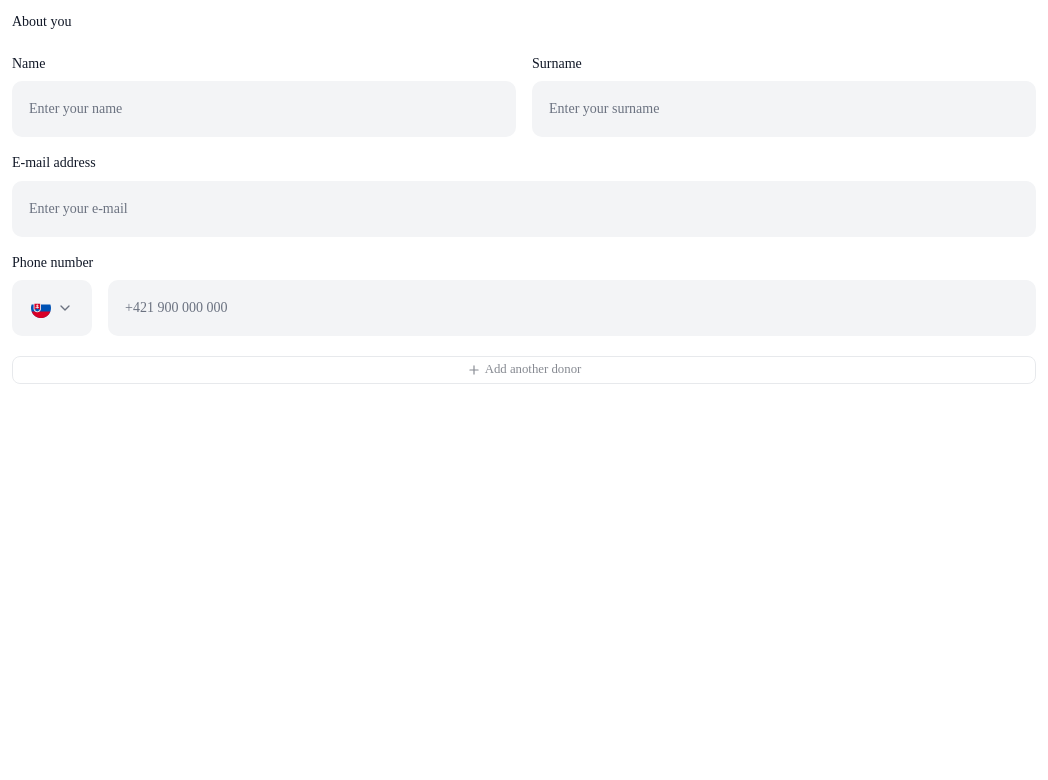
it: PersonalDetailsStep › collapses a correctly filled donor into a summary with an Edit button when another is added
Type "Novak" into the field labelled "Surname". click: (784, 109)
box: [532,81,1036,137]
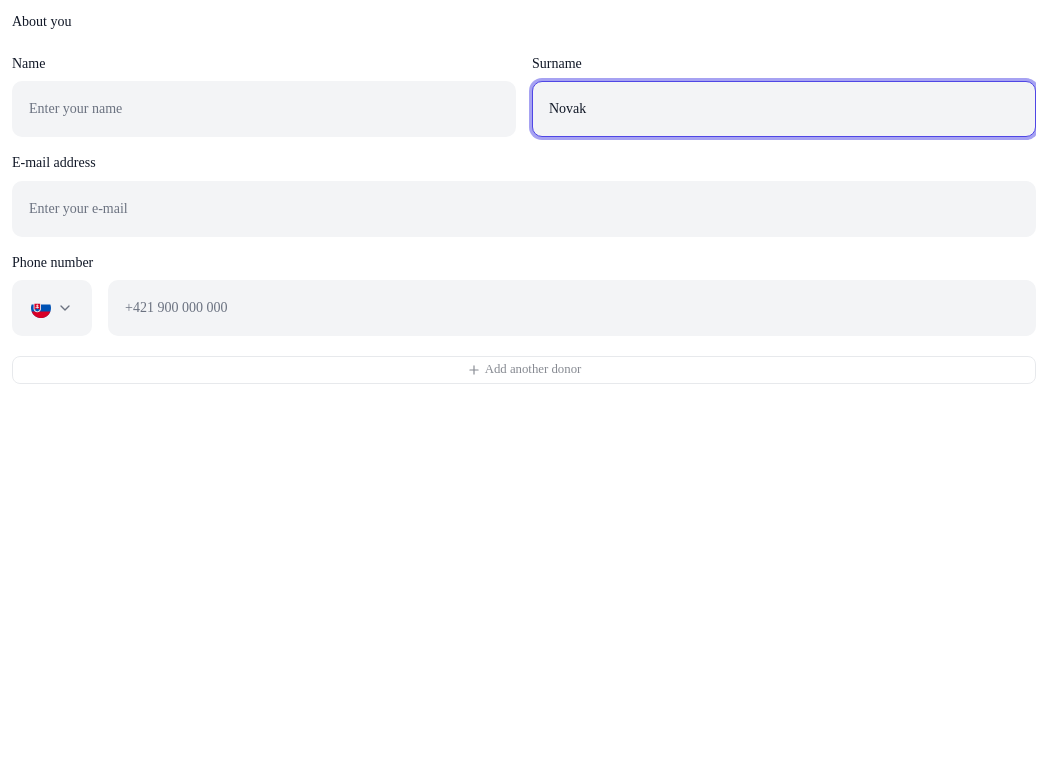
Type "novak@example.com" into the field labelled "E-mail address". click: (524, 208)
box: [12,180,1036,236]
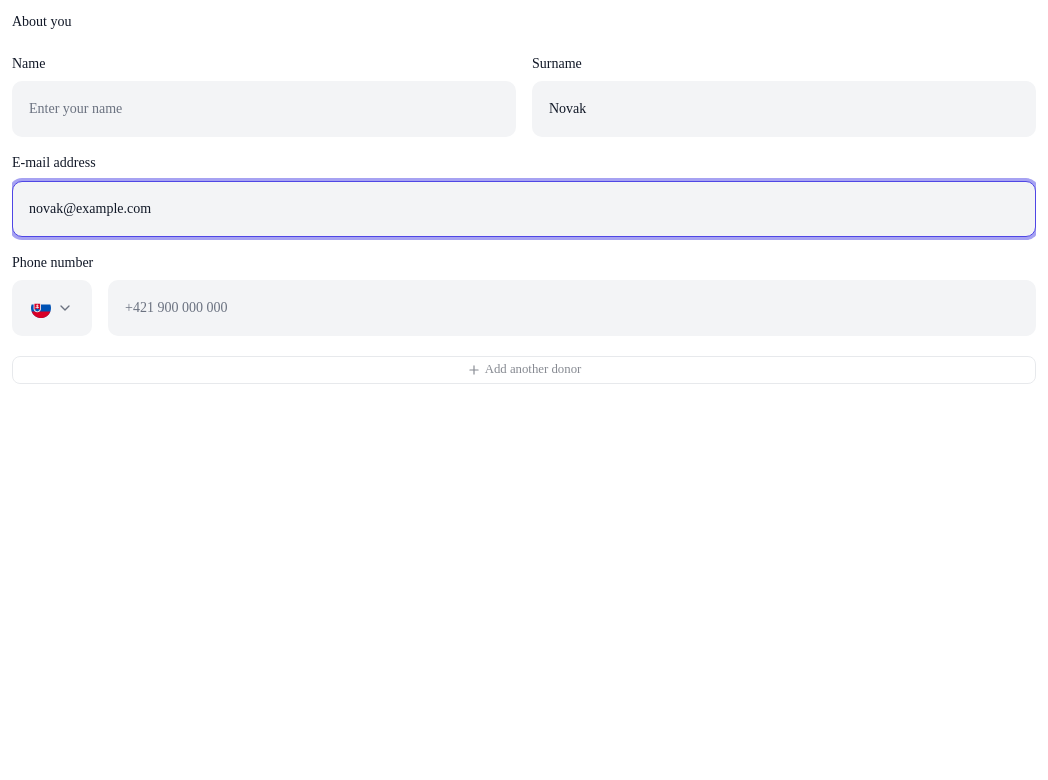
Type "900 000 000" into the field labelled "Phone number". click: (572, 308)
box: [108,280,1036,336]
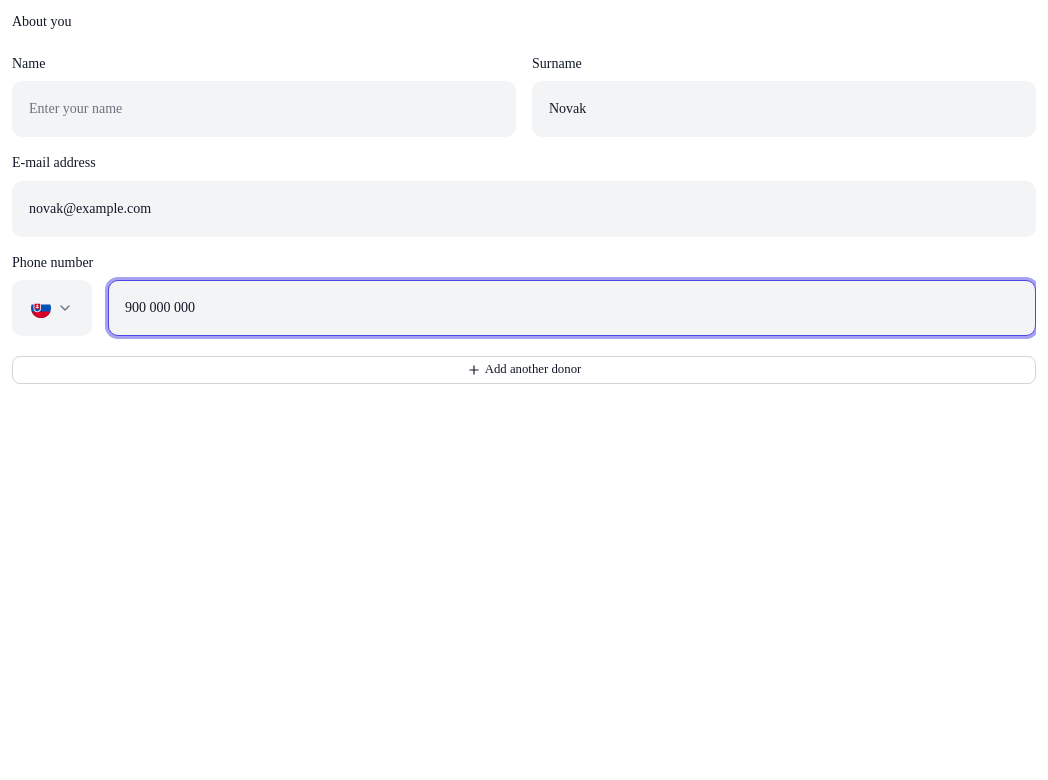
Click the button "Add another donor". click: click(524, 370)
box: [12,356,1036,384]
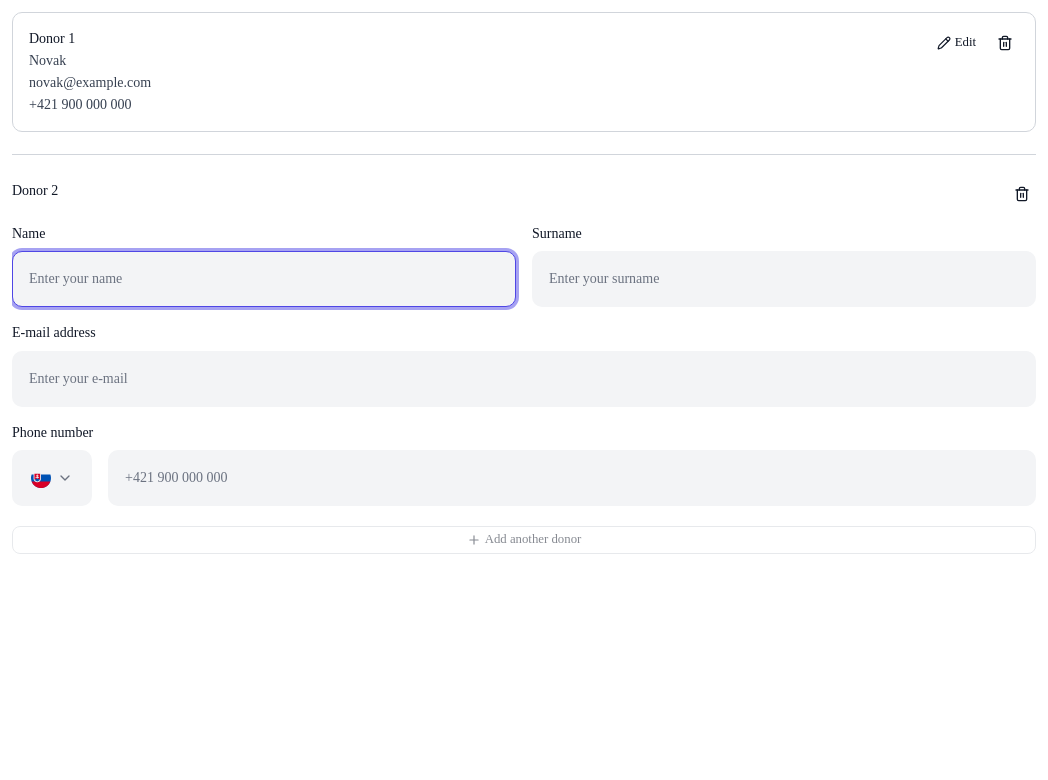
Check: the button "Edit" is shown, box [926,29,987,57]
Check: the text "novak@example.com" is shown, box [29,73,151,93]
Check: the number of fields labelled "Surname" is 1, box [532,251,1036,307]
